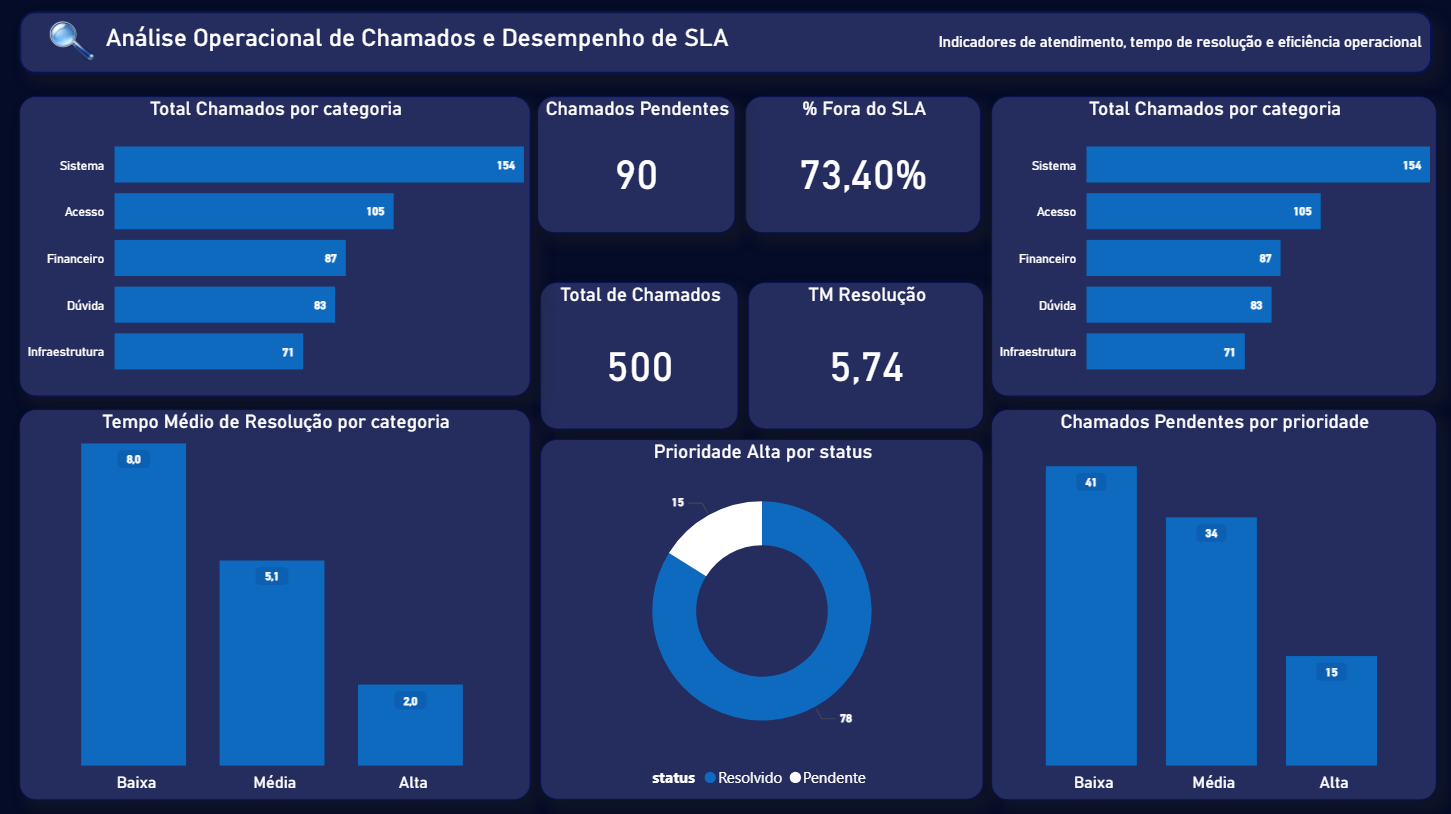

This screenshot's page, from the dashboard's own definition file:
{"tool":"powerbi","page":{"name":"Dash principal","canvas":[1280,720],"ordinal":0},"visuals":[{"type":"cardVisual","title":"Total de Chamados","fields":{"Data":["Chamados.Total Chamados"]},"box":[322.2,9,270.2,175.9],"z":0},{"type":"cardVisual","title":"% Fora do SLA","fields":{"Data":["Chamados.% Fora do SLA"]},"box":[13.5,9,253.1,175.9],"z":1000},{"type":"cardVisual","title":"Tempo médio de resolução","fields":{"Data":["Chamados.Tempo Médio de Resolução"]},"box":[1007.1,9,260.3,175.9],"z":2000},{"type":"barChart","fields":{"Category":["Chamados.categoria"],"Y":["Chamados.Total Chamados"]},"box":[13.5,212.7,579,277.4],"z":3000},{"type":"barChart","fields":{"Y":["Chamados.Total Chamados"],"Category":["Chamados.prioridade"]},"box":[673.2,212.7,594.2,256.7],"z":4000},{"type":"cardVisual","title":"Chamados Pendentes","fields":{"Data":["Chamados.Chamados Pendentes"]},"box":[673.2,9,272.9,175.9],"z":5000},{"type":"lineChart","fields":{"Category":["Chamados.data_abertura.Variation.Hierarquia de datas.Dia"],"Y":["Chamados.Total Chamados"]},"box":[13.5,505.4,456,199.3],"z":6000},{"type":"columnChart","title":"Tempo Médio de Resolução por categoria","fields":{"Y":["Chamados.Tempo Médio de Resolução"],"Category":["Chamados.categoria"],"Series":["Chamados.categoria"]},"box":[494.6,490.1,772.8,213.6],"z":6001}]}

Visuals, with their boxes in screenshot pixels (x1, y1, x2, y2), scaled from the page's 1280x720 canvas onto the 1451x814 screenshot:
"Total de Chamados" cardVisual: [x1=365, y1=10, x2=672, y2=209]
"% Fora do SLA" cardVisual: [x1=15, y1=10, x2=302, y2=209]
"Tempo médio de resolução" cardVisual: [x1=1142, y1=10, x2=1437, y2=209]
barChart - Chamados.categoria x Chamados.Total Chamados: [x1=15, y1=240, x2=672, y2=554]
barChart - Chamados.Total Chamados x Chamados.prioridade: [x1=763, y1=240, x2=1437, y2=531]
"Chamados Pendentes" cardVisual: [x1=763, y1=10, x2=1072, y2=209]
lineChart - Chamados.data_abertura.Variation.Hierarquia de datas.Dia x Chamados.Total Chamados: [x1=15, y1=571, x2=532, y2=797]
"Tempo Médio de Resolução por categoria" columnChart: [x1=561, y1=554, x2=1437, y2=796]
